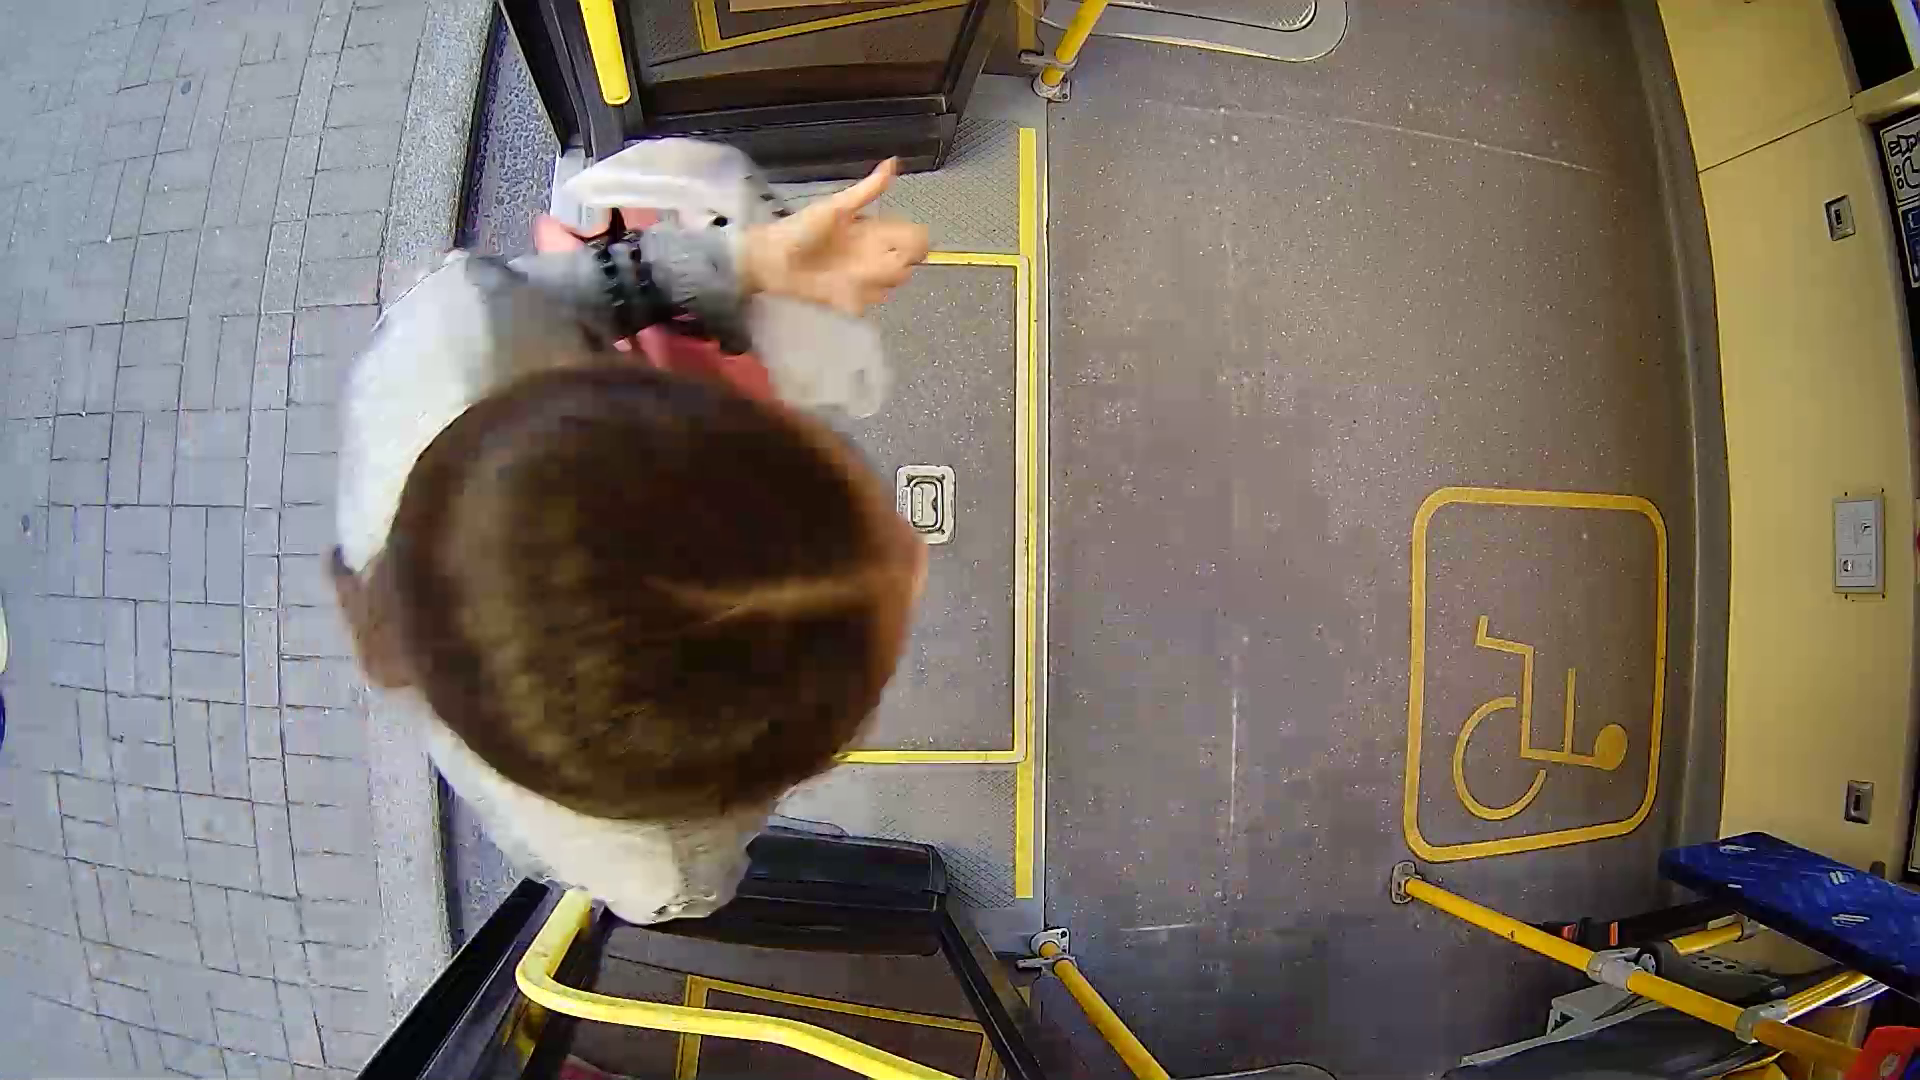person: (320, 142, 1034, 918)
